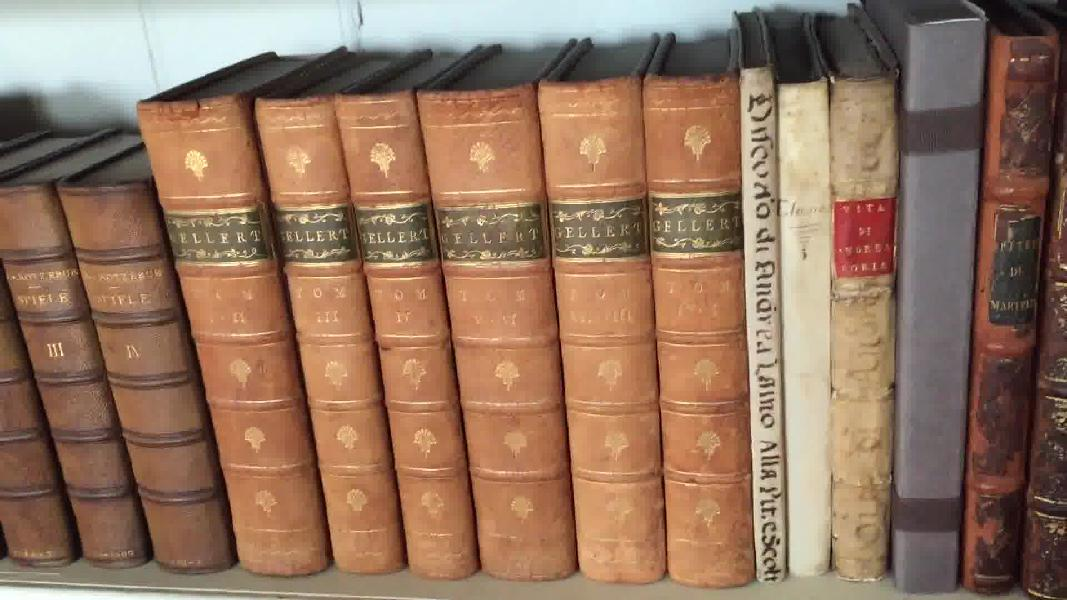Aa6-18_23: (129, 69, 754, 590)
Aa6-24: (739, 69, 794, 581)
Aa6-25: (777, 85, 835, 575)
Aa6-26: (829, 65, 894, 584)
Aa6-27: (896, 5, 992, 600)
Aa6-28: (963, 27, 1062, 594)
